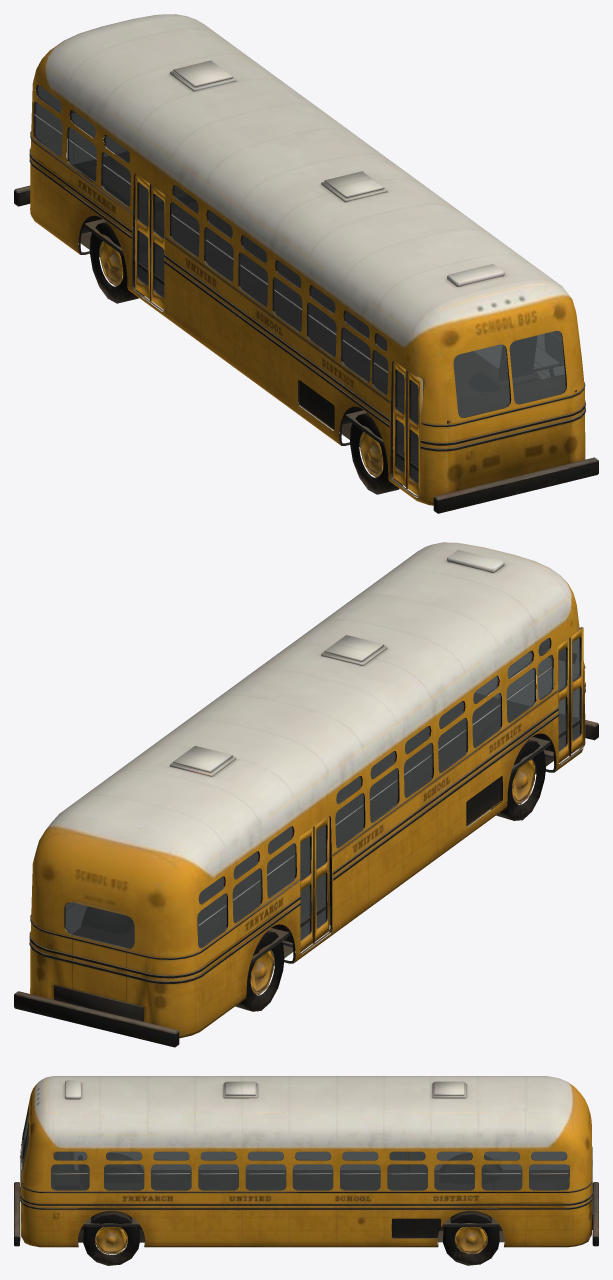
Rendered from nuketown_bus-low.glb.
3 views of the same model, one above another, from view 1: azimuth 30°, elevation 25°; view 2: azimuth 150°, elevation 25°; view 3: azimuth 270°, elevation 25° (orthographic). The views are drawn at different scales.
Visible parts, largest first — view 1: bus_A_low, bus_glass_low, bus_B_low; view 2: bus_A_low, bus_glass_low, bus_B_low; view 3: bus_A_low, bus_glass_low, bus_B_low.
Boxes of the visible parts, x1=… form: bus_A_low: x1=14, y1=14, x2=598, y2=513; bus_glass_low: x1=33, y1=85, x2=566, y2=483; bus_B_low: x1=79, y1=155, x2=576, y2=494; bus_A_low: x1=14, y1=542, x2=598, y2=1047; bus_glass_low: x1=65, y1=637, x2=580, y2=948; bus_B_low: x1=71, y1=651, x2=580, y2=1011; bus_A_low: x1=14, y1=1076, x2=598, y2=1247; bus_glass_low: x1=22, y1=1108, x2=569, y2=1190; bus_B_low: x1=22, y1=1183, x2=504, y2=1265.
Bounding box in the file's own units: 2.46 × 3.06 × 10.65.
Materials: 3 (2 with a texture image).
